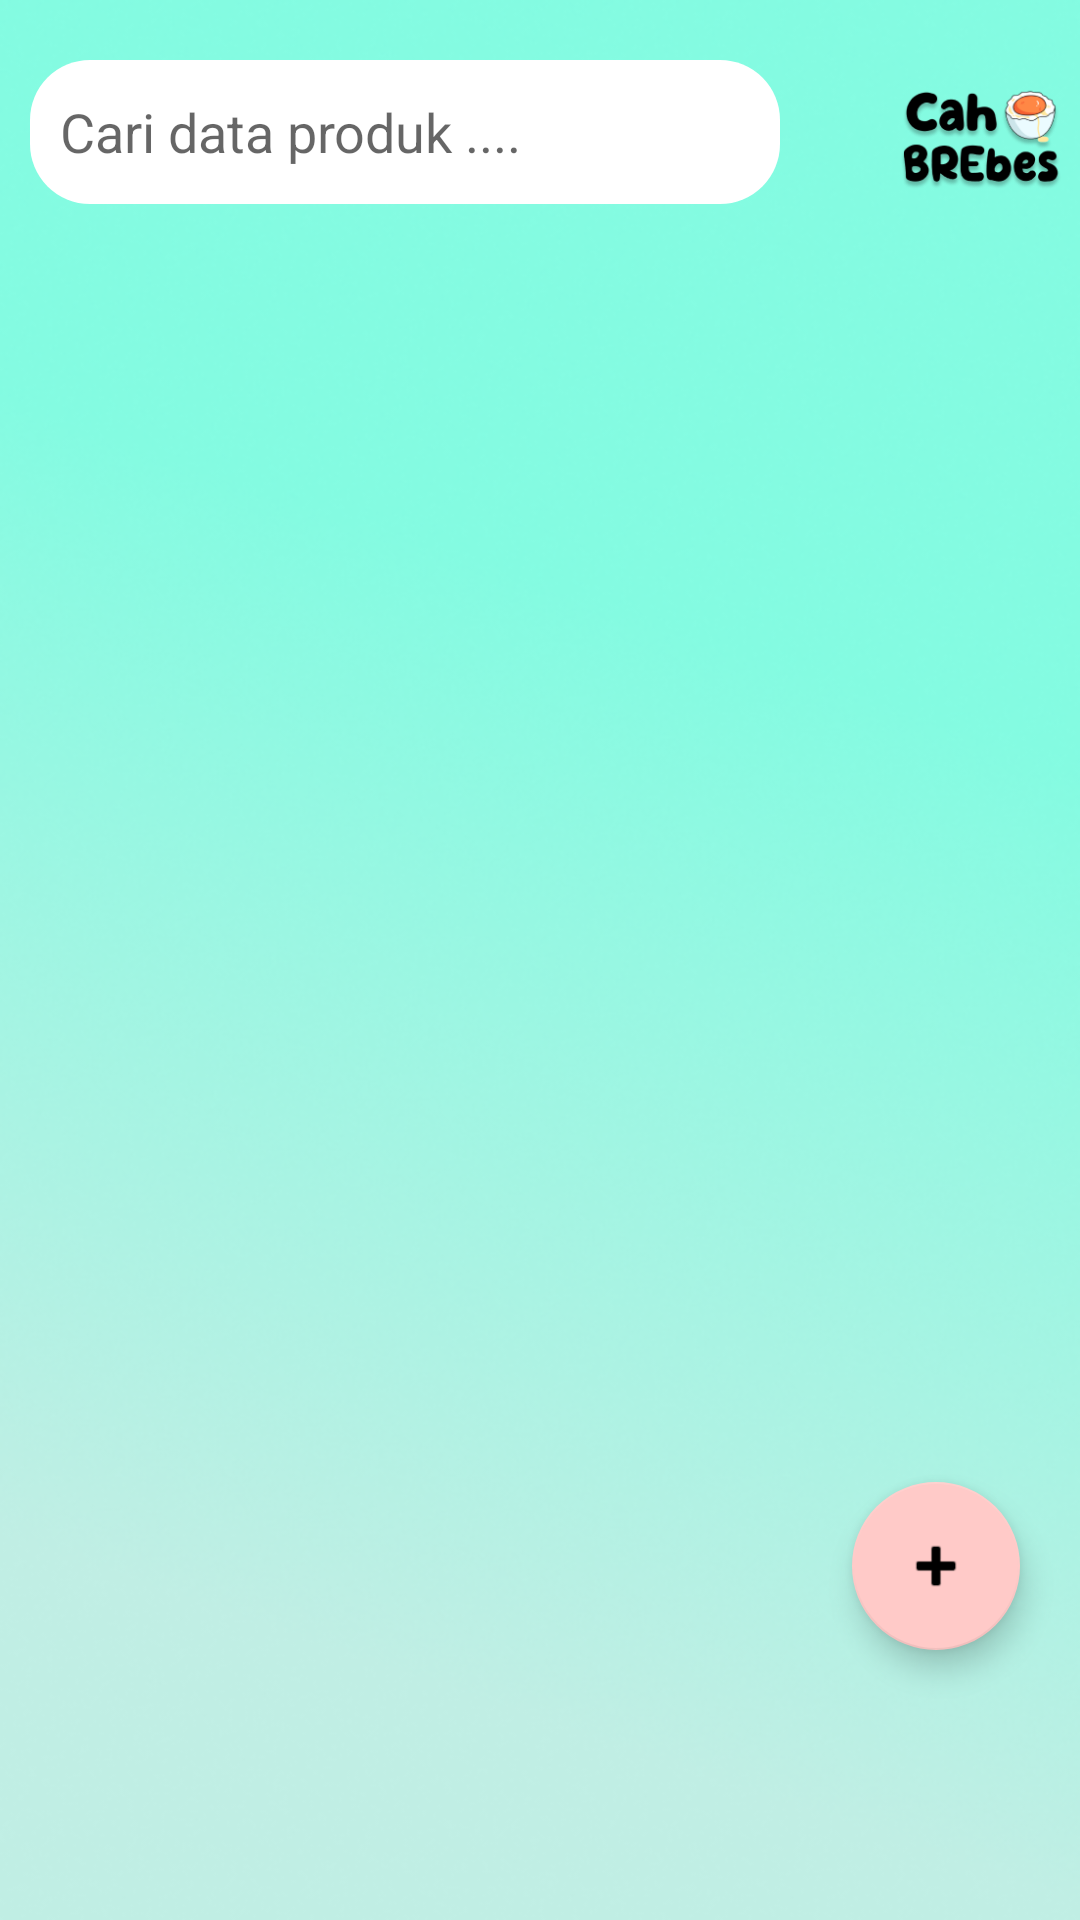

Locate icon controls on the screen. Image size 1080px x 1920px, boxes as {"x1": x1, "y1": y1, "x2": x2, "y2": y2}.
add: {"x1": 852, "y1": 1482, "x2": 1020, "y2": 1650}
